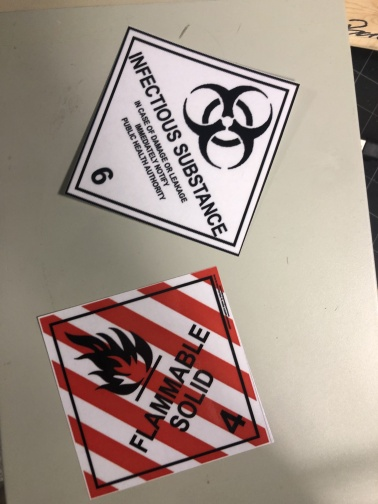FlammableSolid: (37, 266, 274, 501)
InfectiousSubstance: (65, 27, 300, 255)
